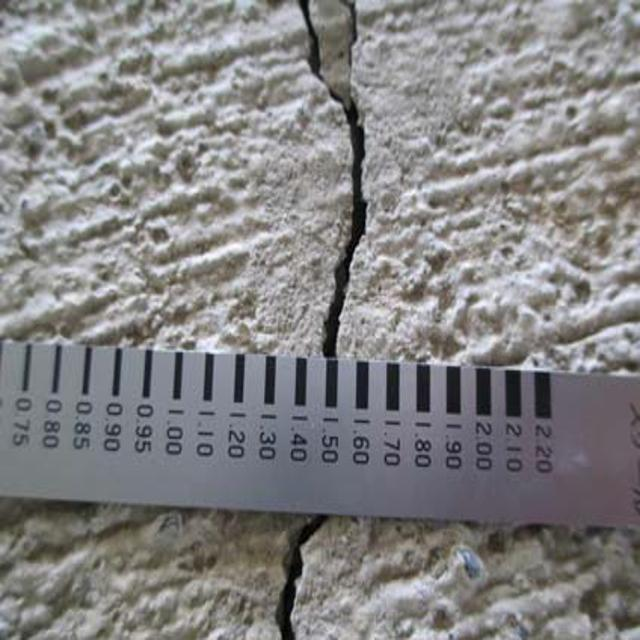crack: (286, 3, 383, 361), (254, 521, 343, 640)
